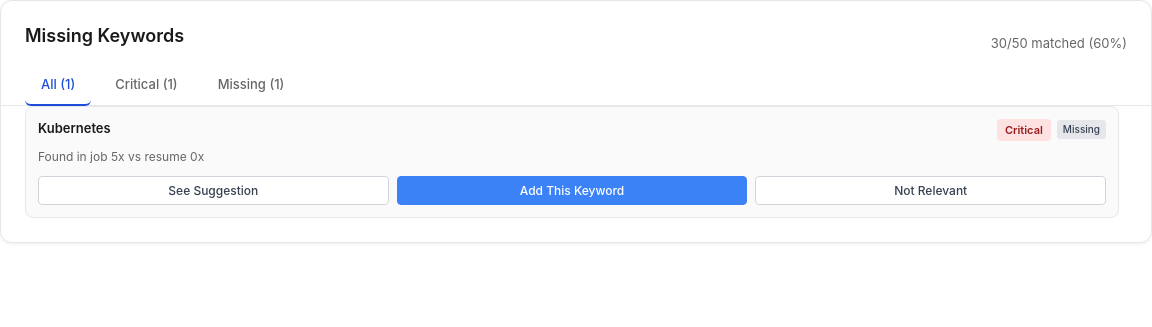
MissingKeywords › should expand and collapse keyword details
The image size is (1152, 327).
Step 1. Click the button "See Suggestion" → (213, 190), box [38, 176, 389, 205]
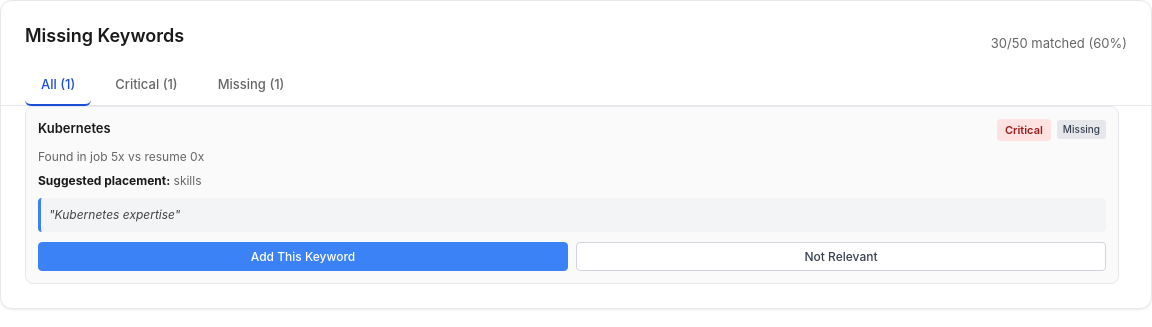
Expected: the text "Suggested placement:" is shown, [38, 173, 170, 188]
